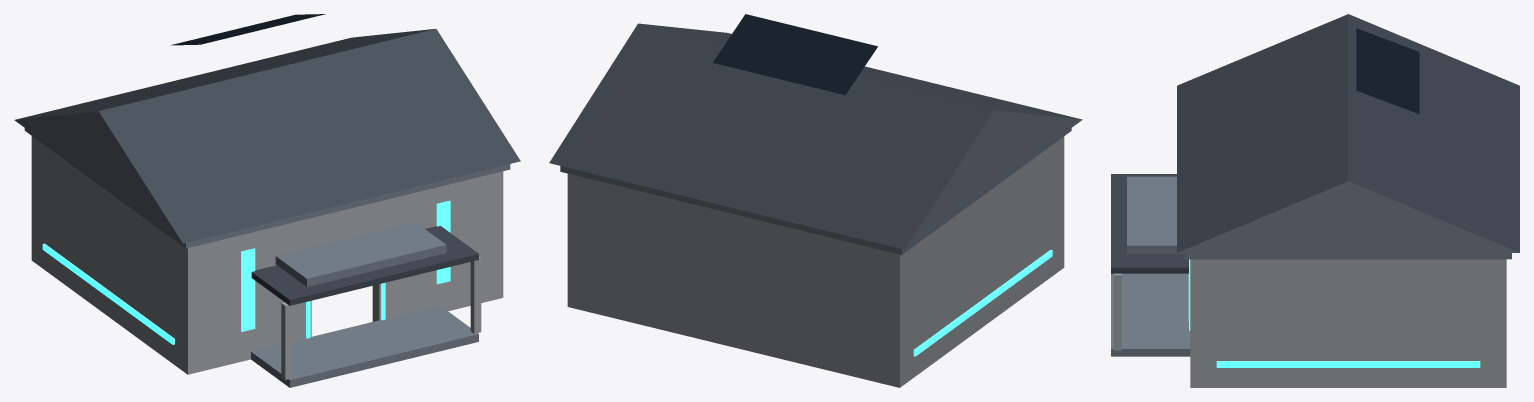
Rendered from shaddai_dist_suburb_b2_v01.glb.
The picture shows the model from 3 angles, left to right: view 1: azimuth 30°, elevation 25°; view 2: azimuth 150°, elevation 25°; view 3: azimuth 270°, elevation 25°; orthographic projection. The views are drawn at different scales.
Visible parts, largest first — view 1: shaddai_dist_suburb_b2; view 2: shaddai_dist_suburb_b2; view 3: shaddai_dist_suburb_b2.
Part boxes in pixels (x1,y1,x2,y2): shaddai_dist_suburb_b2: (14, 14, 520, 387); shaddai_dist_suburb_b2: (549, 14, 1082, 387); shaddai_dist_suburb_b2: (1111, 14, 1519, 387).
Size of the model in its own units: 15 by 10.48 by 15.5.
